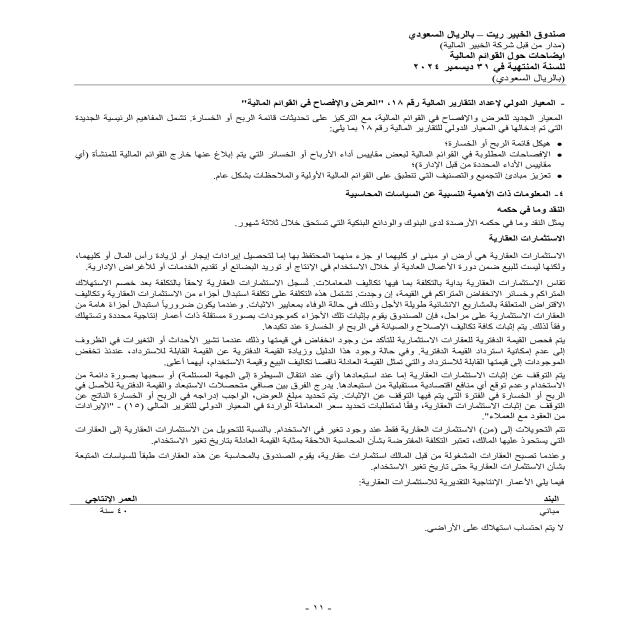notes: (444, 51, 564, 61)
text: (42, 89, 582, 554)
